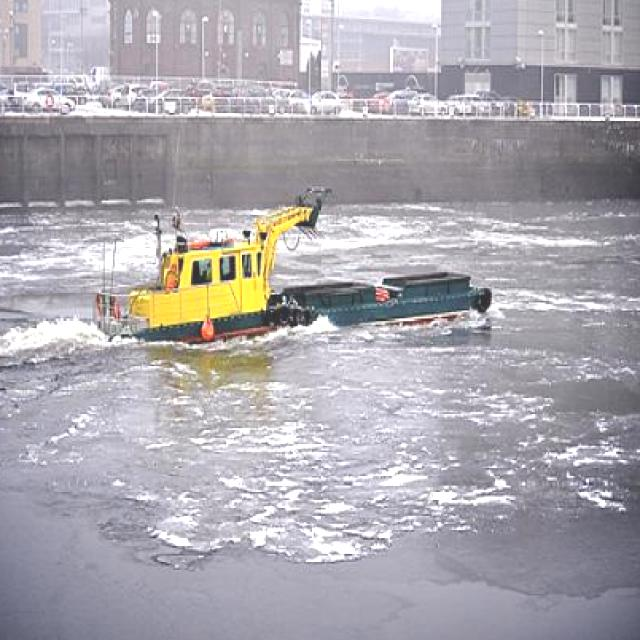ship: (89, 178, 492, 347)
